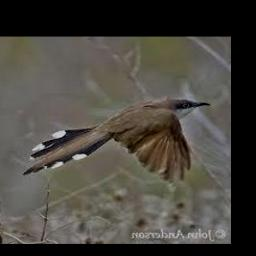Cuckoo: (23, 96, 211, 181)
